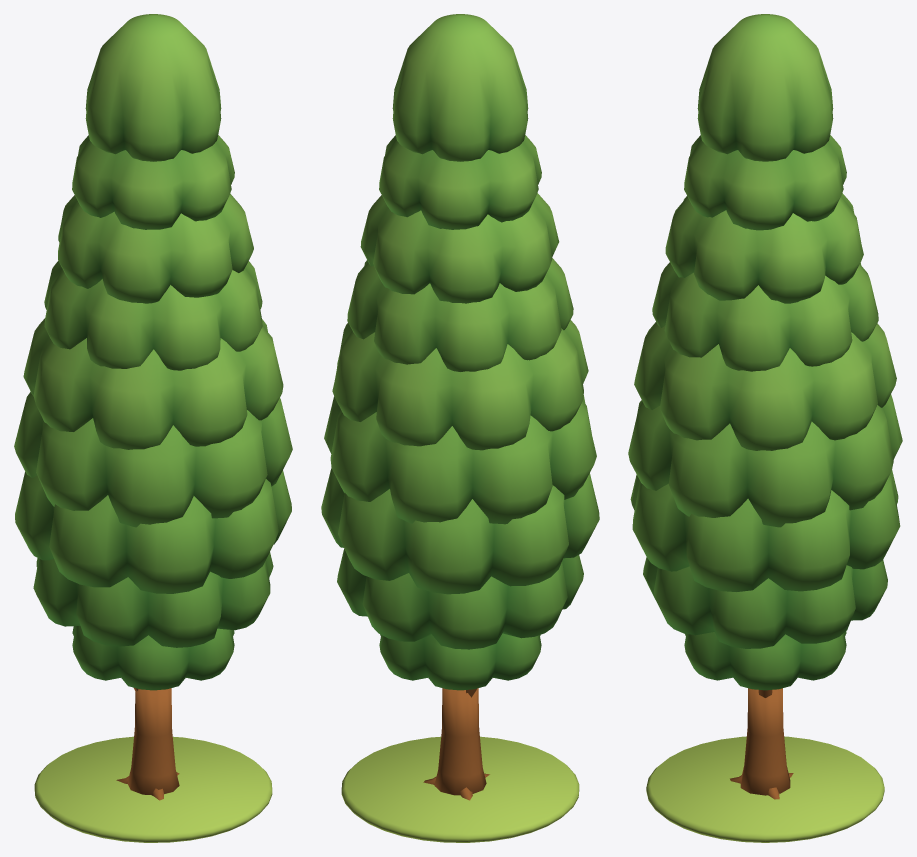
The model's file is cypress-tall.glb.
3 renders of one model, left to right at view 1: azimuth 30°, elevation 25°; view 2: azimuth 150°, elevation 25°; view 3: azimuth 270°, elevation 25°, orthographic.
Visible parts, largest first — view 1: body, base_disc; view 2: body, base_disc; view 3: body, base_disc.
Boxes of the visible parts, x1,y1,x2,y2 form: body: [14, 14, 292, 800]; base_disc: [34, 736, 272, 842]; body: [321, 14, 599, 800]; base_disc: [341, 736, 579, 842]; body: [628, 14, 902, 799]; base_disc: [646, 736, 884, 842].
Bounding box in the file's own units: 1.15 × 3.6 × 1.15.
